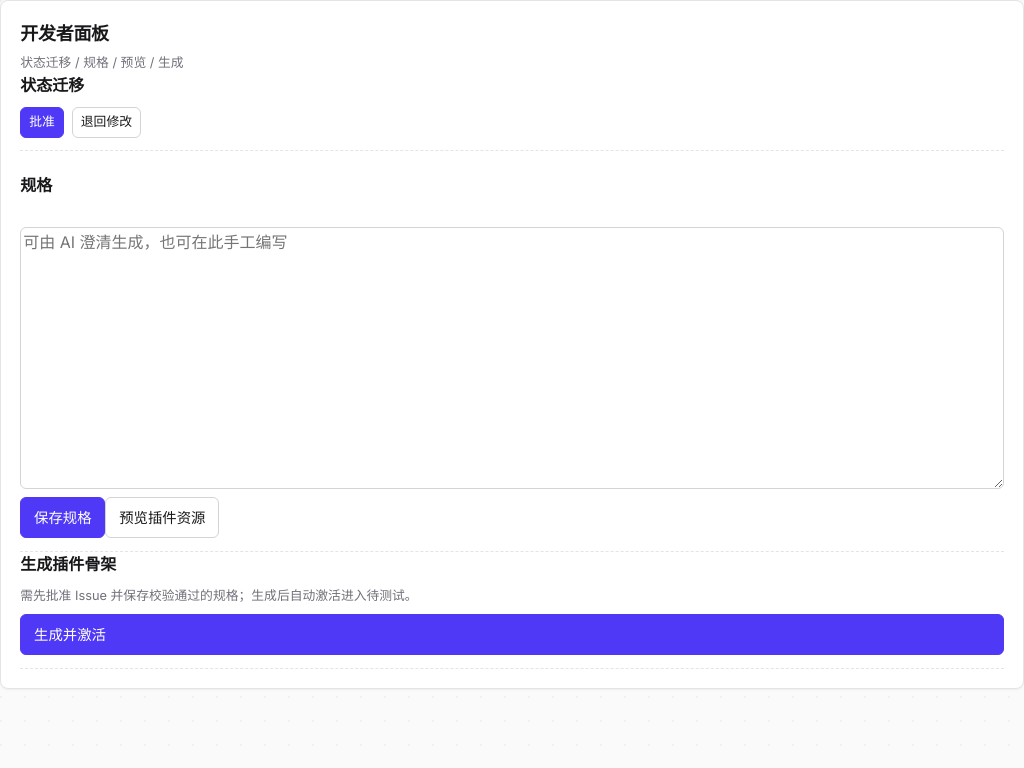
Test: IssueDevPanel 旁路迁移与复位（审查 P2-3/P2-5） › 旁路迁移失败：关闭对话框且错误显示在迁移区
Click the button with test id "transition-RETURNED" at (106, 122), box [72,107,141,138]
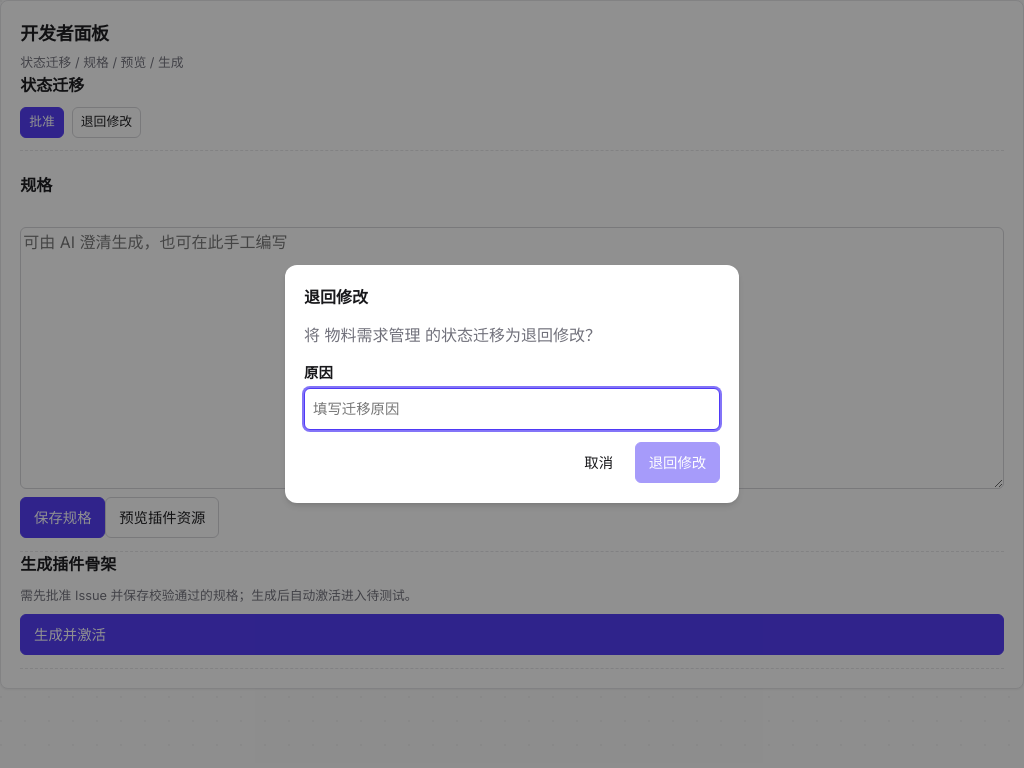
Type "需求不完整" into the field with test id "confirm-reason" at (512, 409), box [304,388,720,430]
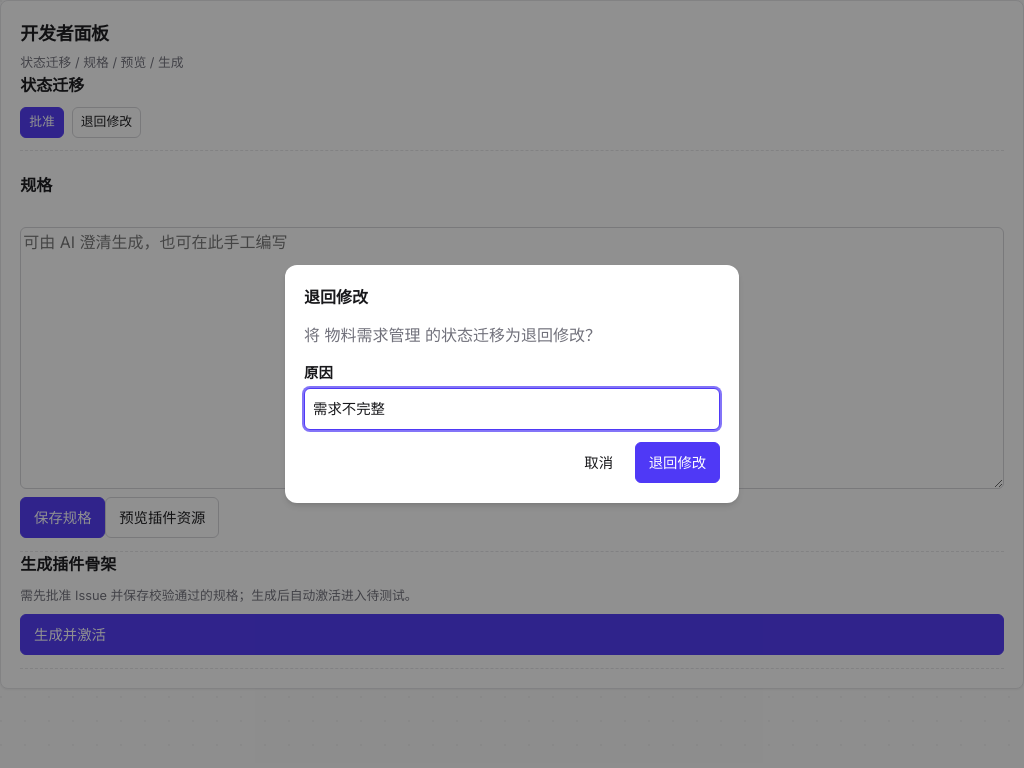
Click the button with test id "confirm-submit" at (677, 463), box [635,442,720,483]
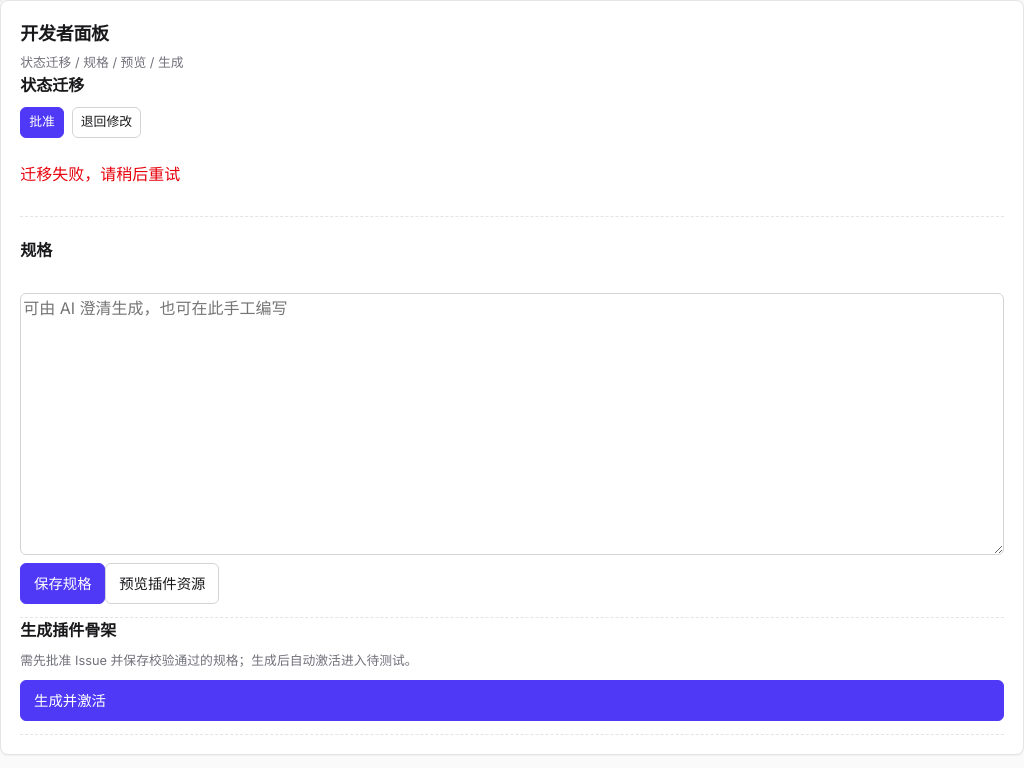
expect the element with test id "transition-section" shows "迁移失败": met, box [20,164,180,184]
